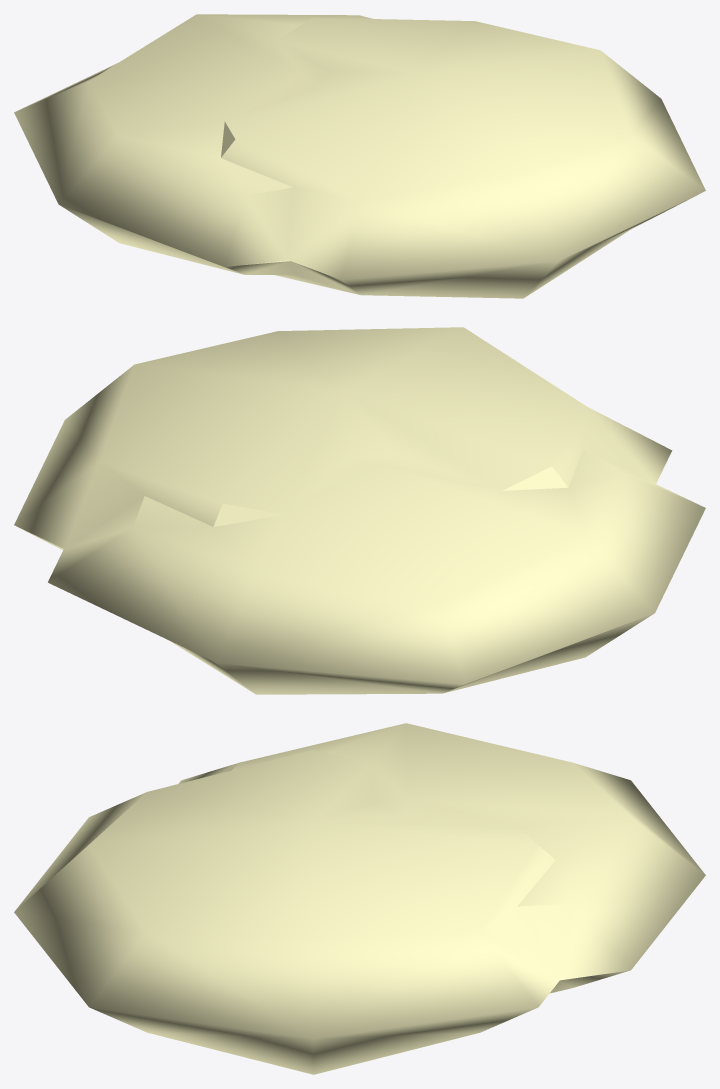
The model's file is coral5.gltf.
The picture shows the model from 3 angles, top to bottom: view 1: azimuth 30°, elevation 25°; view 2: azimuth 150°, elevation 25°; view 3: azimuth 270°, elevation 25°; orthographic projection. The views are drawn at different scales.
Size of the model in its own units: 7.79 by 2.24 by 7.82.
